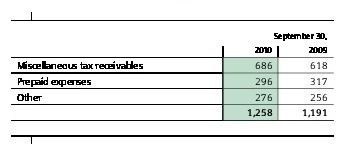table: (0, 0, 348, 156)
